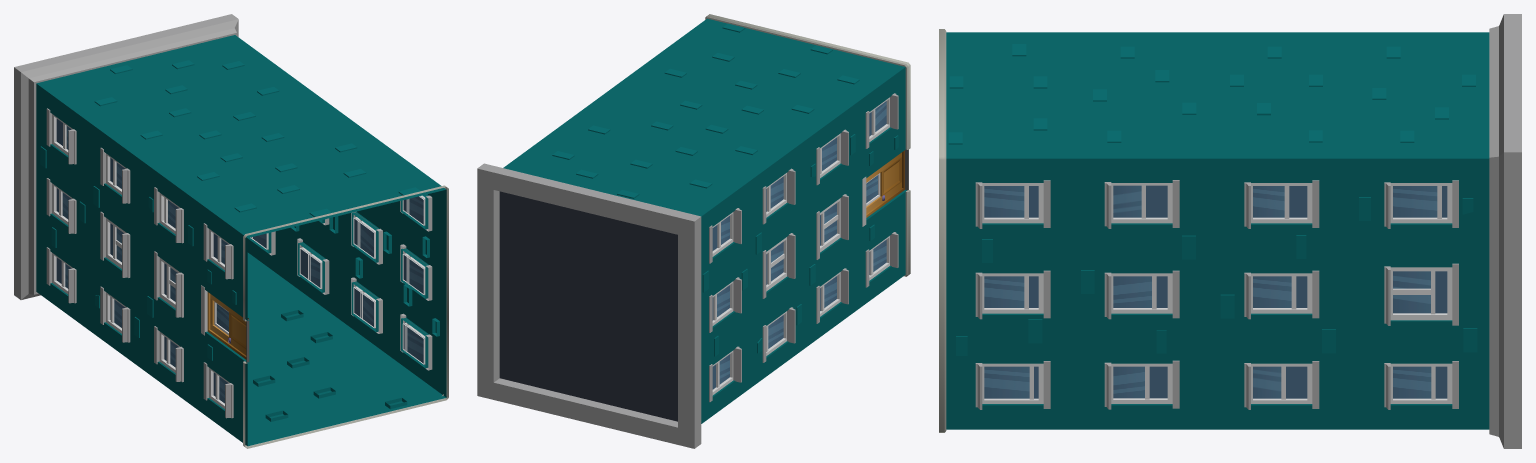
File: Building_2_5_H.glb
3 views of the same model, side by side, from view 1: azimuth 30°, elevation 25°; view 2: azimuth 150°, elevation 25°; view 3: azimuth 270°, elevation 25° (orthographic). The views are drawn at different scales.
Parts seen in each view (by area): view 1: Building_2_5_H; view 2: Building_2_5_H; view 3: Building_2_5_H.
Part boxes in pixels (left/top/right/bottom): Building_2_5_H: left=14, top=14, right=448, bottom=448; Building_2_5_H: left=477, top=14, right=910, bottom=448; Building_2_5_H: left=939, top=14, right=1521, bottom=448.
Bounding box in the file's own units: 6.2 × 6.2 × 11.05.
3 materials, 3 textured.
